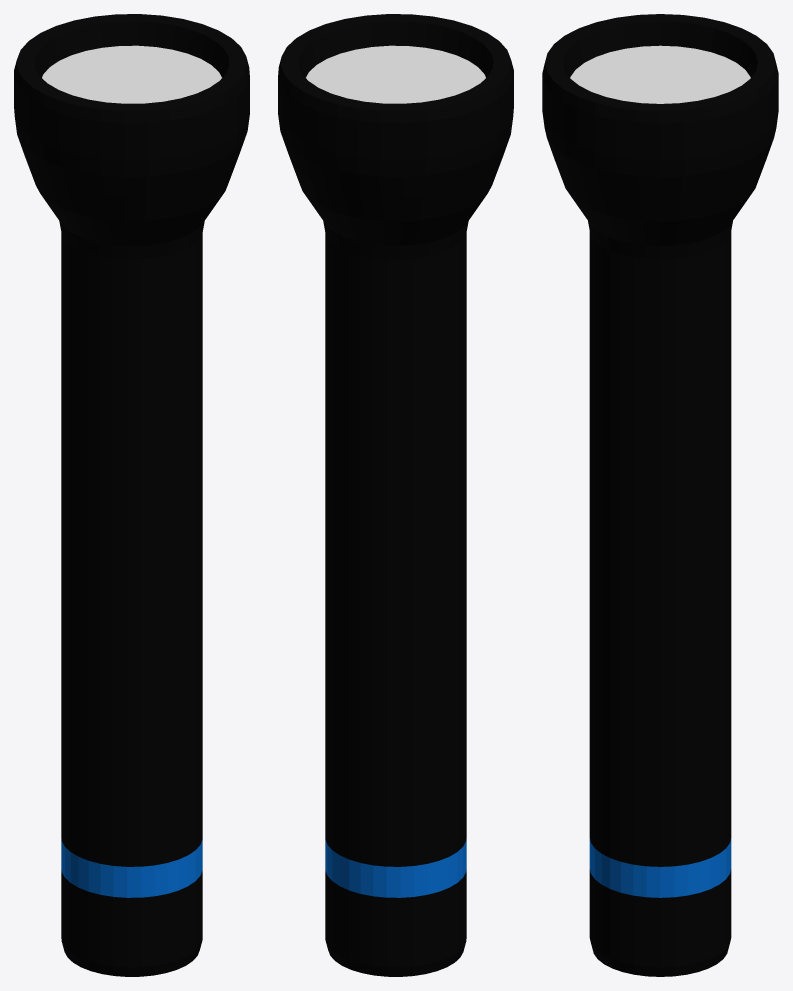
The model's file is flashlight.fbx.
3 views of the same model, side by side, from view 1: azimuth 30°, elevation 25°; view 2: azimuth 150°, elevation 25°; view 3: azimuth 270°, elevation 25° (orthographic).
Visible parts, largest first — view 1: Cylinder; view 2: Cylinder; view 3: Cylinder.
Part boxes in pixels (bbox=[...]): Cylinder: bbox=[14, 14, 249, 976]; Cylinder: bbox=[278, 14, 513, 976]; Cylinder: bbox=[542, 14, 778, 976].
Bounding box in the file's own units: 49.6 × 12 × 12.
